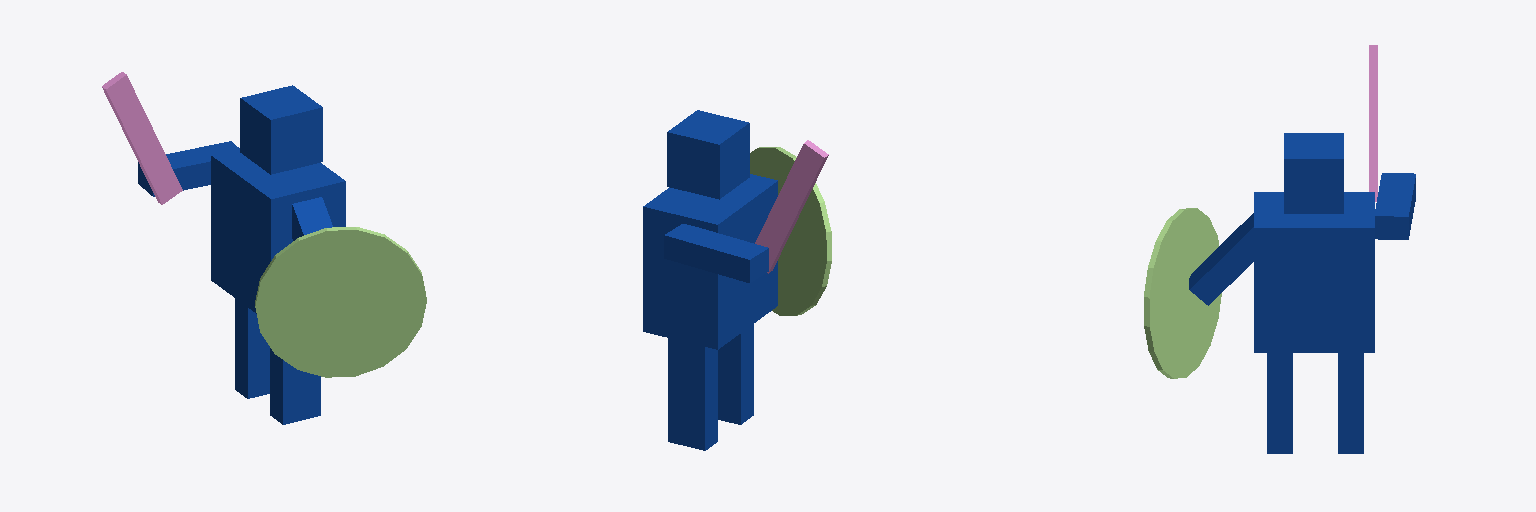
File: BA_Footman_02.obj
3 views of the same model, side by side, from view 1: azimuth 30°, elevation 25°; view 2: azimuth 150°, elevation 25°; view 3: azimuth 270°, elevation 25° (orthographic).
Visible parts, largest first — view 1: Cylinder001, Box001, Box007, Box008, Box003, Box004, Box006, Box005; view 2: Box001, Cylinder001, Box007, Box004, Box006, Box008, Box003; view 3: Box001, Cylinder001, Box007, Box005, Box003, Box004, Box006, Box008.
Boxes of the visible parts, x1=… form: Cylinder001: x1=255, y1=227, x2=426, y2=377; Box001: x1=211, y1=148, x2=345, y2=313; Box007: x1=240, y1=85, x2=322, y2=174; Box008: x1=102, y1=72, x2=182, y2=204; Box003: x1=270, y1=348, x2=320, y2=424; Box004: x1=235, y1=298, x2=269, y2=398; Box006: x1=138, y1=141, x2=238, y2=196; Box005: x1=292, y1=197, x2=332, y2=240; Box001: x1=643, y1=174, x2=777, y2=349; Cylinder001: x1=750, y1=147, x2=831, y2=315; Box007: x1=667, y1=110, x2=749, y2=199; Box004: x1=668, y1=338, x2=717, y2=450; Box006: x1=664, y1=224, x2=768, y2=282; Box008: x1=755, y1=140, x2=828, y2=273; Box003: x1=718, y1=324, x2=753, y2=424; Box001: x1=1254, y1=192, x2=1374, y2=352; Cylinder001: x1=1144, y1=208, x2=1221, y2=378; Box007: x1=1284, y1=133, x2=1343, y2=213; Box005: x1=1189, y1=213, x2=1253, y2=305; Box003: x1=1267, y1=353, x2=1292, y2=453; Box004: x1=1338, y1=353, x2=1363, y2=453; Box006: x1=1375, y1=173, x2=1415, y2=239; Box008: x1=1369, y1=45, x2=1377, y2=201.
Bounding box in the file's own units: 141 × 217 × 158.